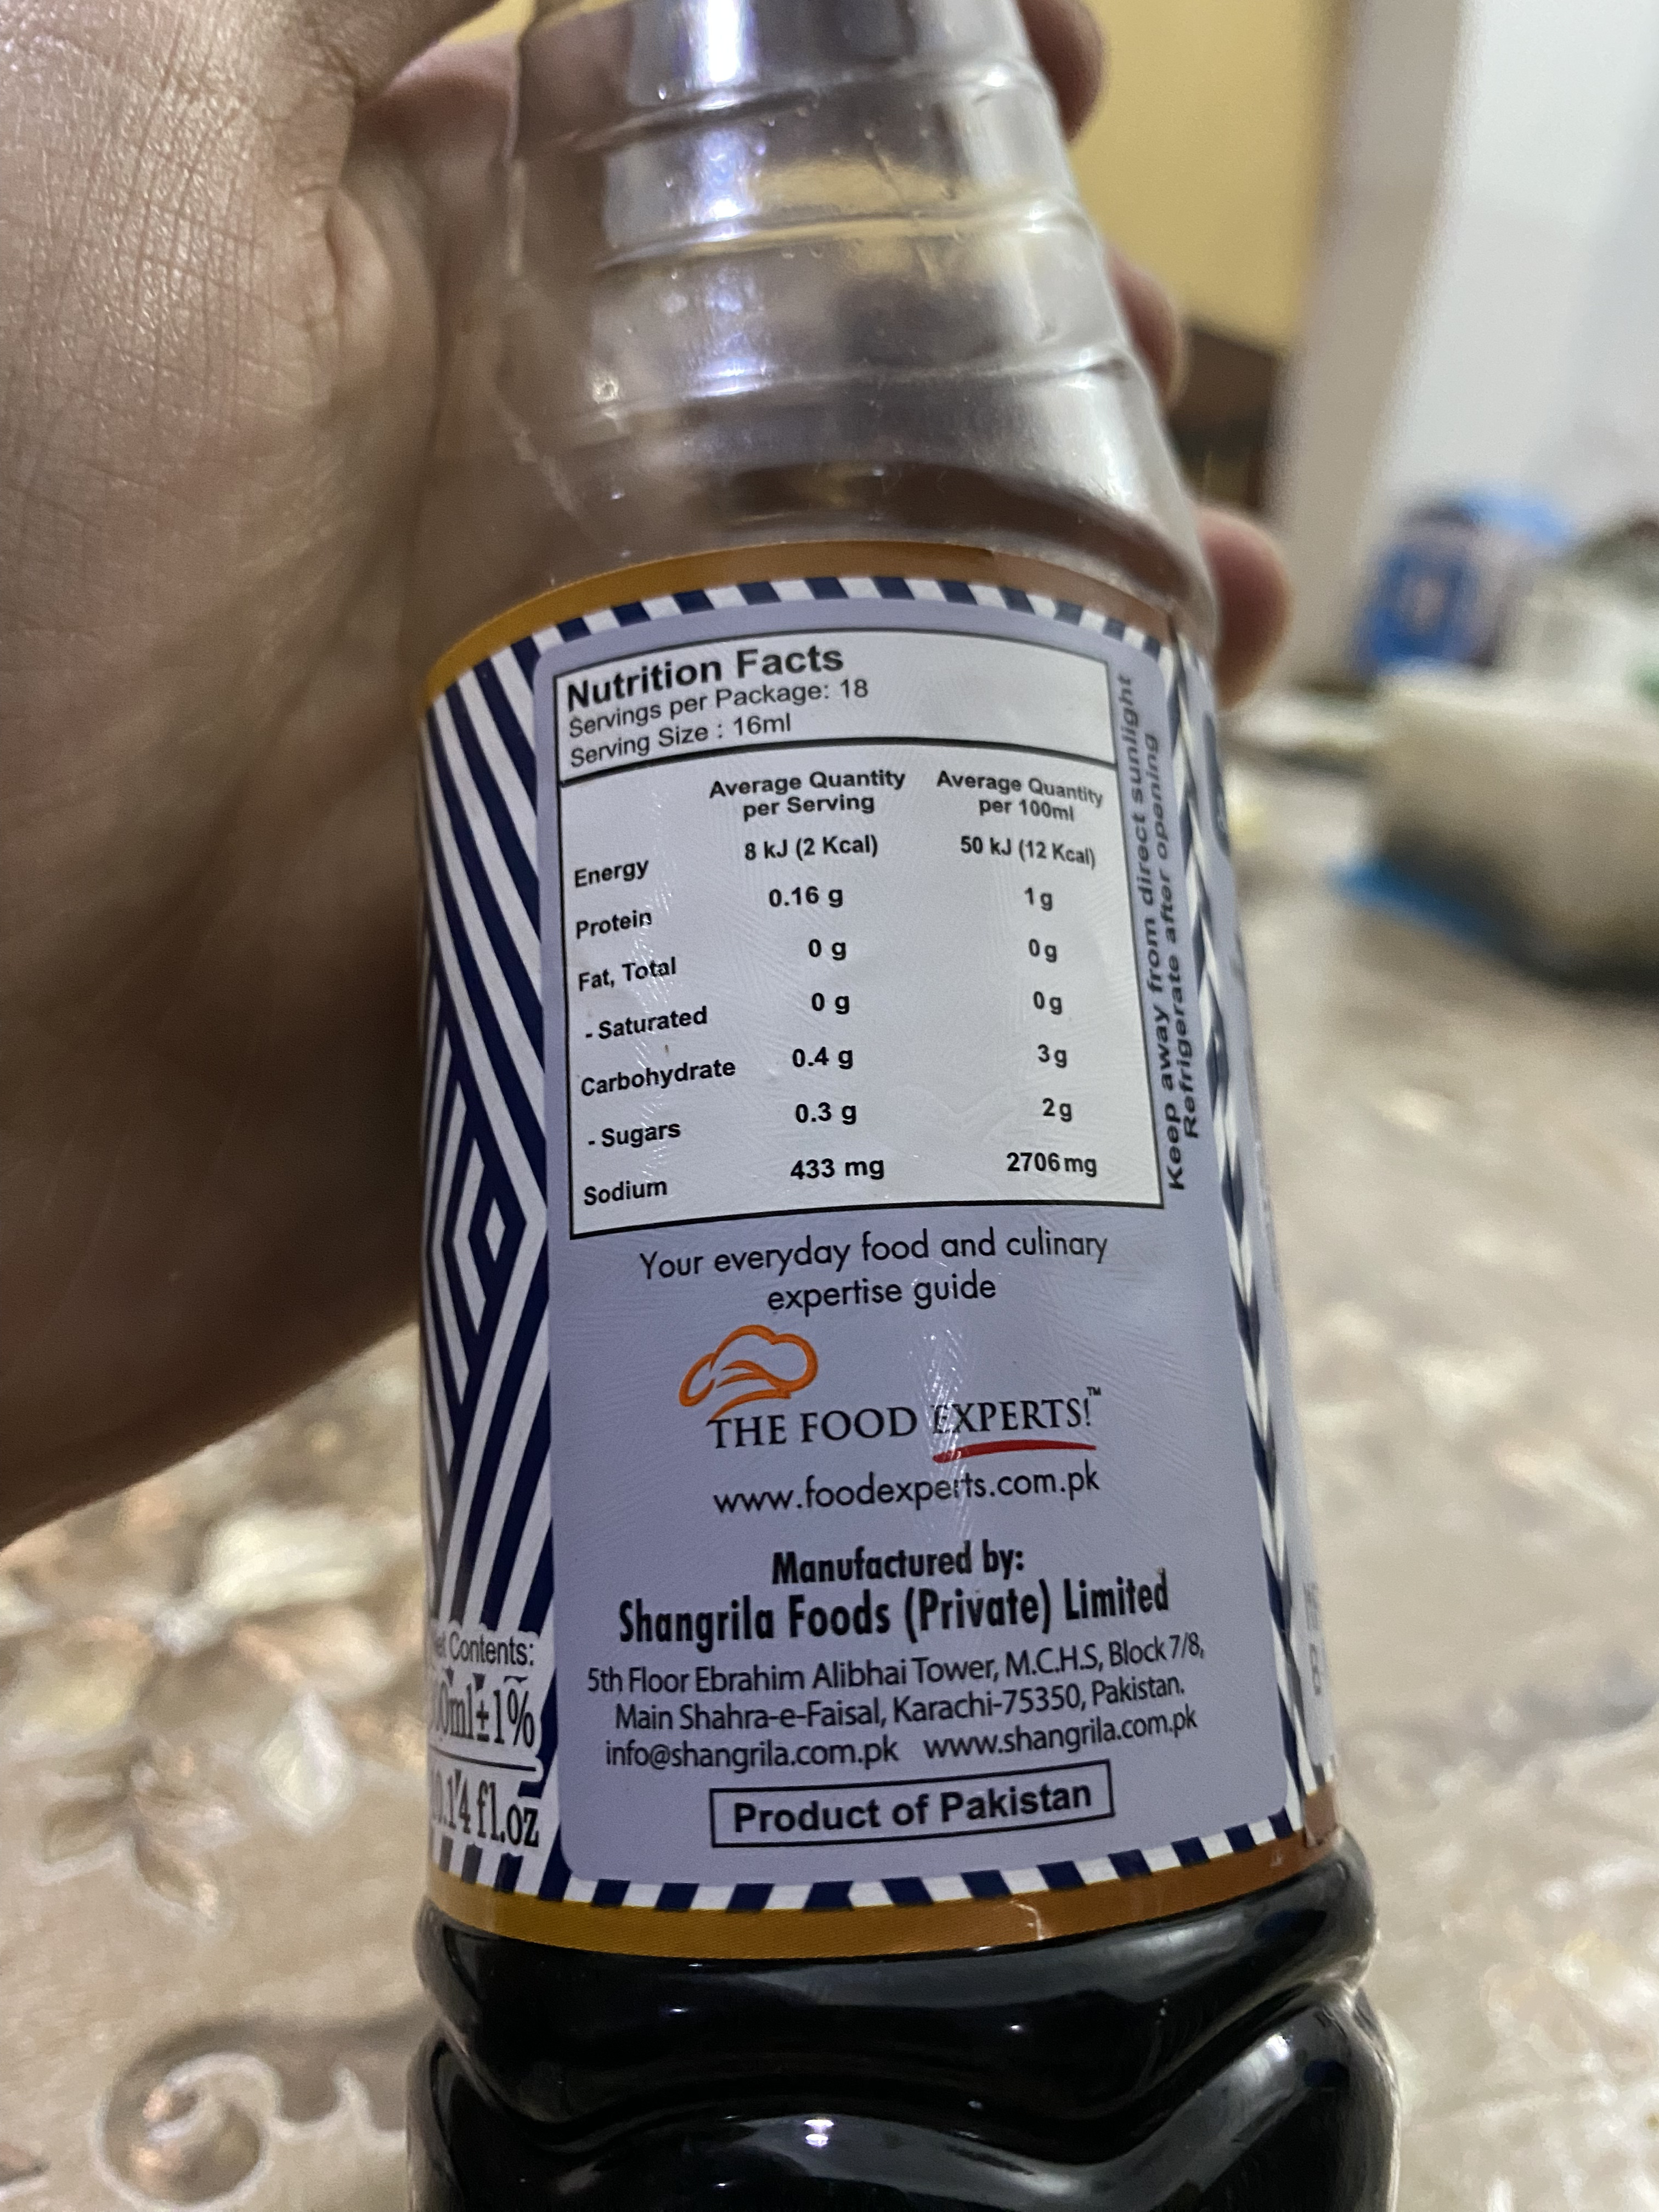table: (545, 624, 1187, 1242)
